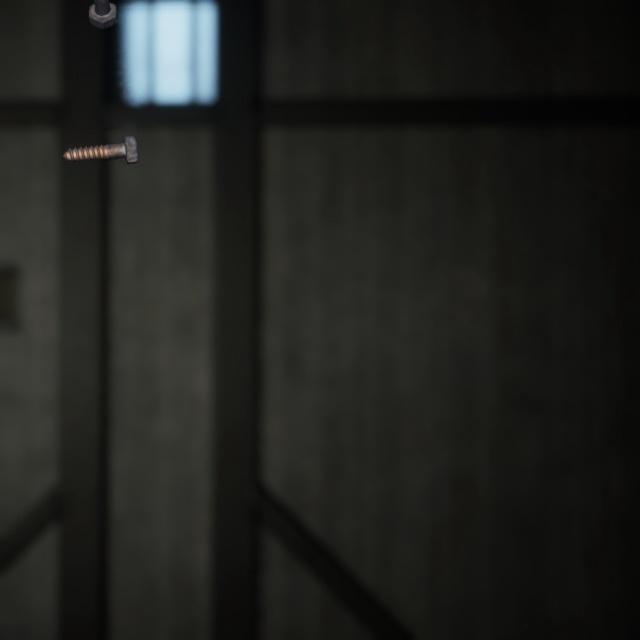bolt: (58, 118, 142, 154), (84, 0, 121, 27)
